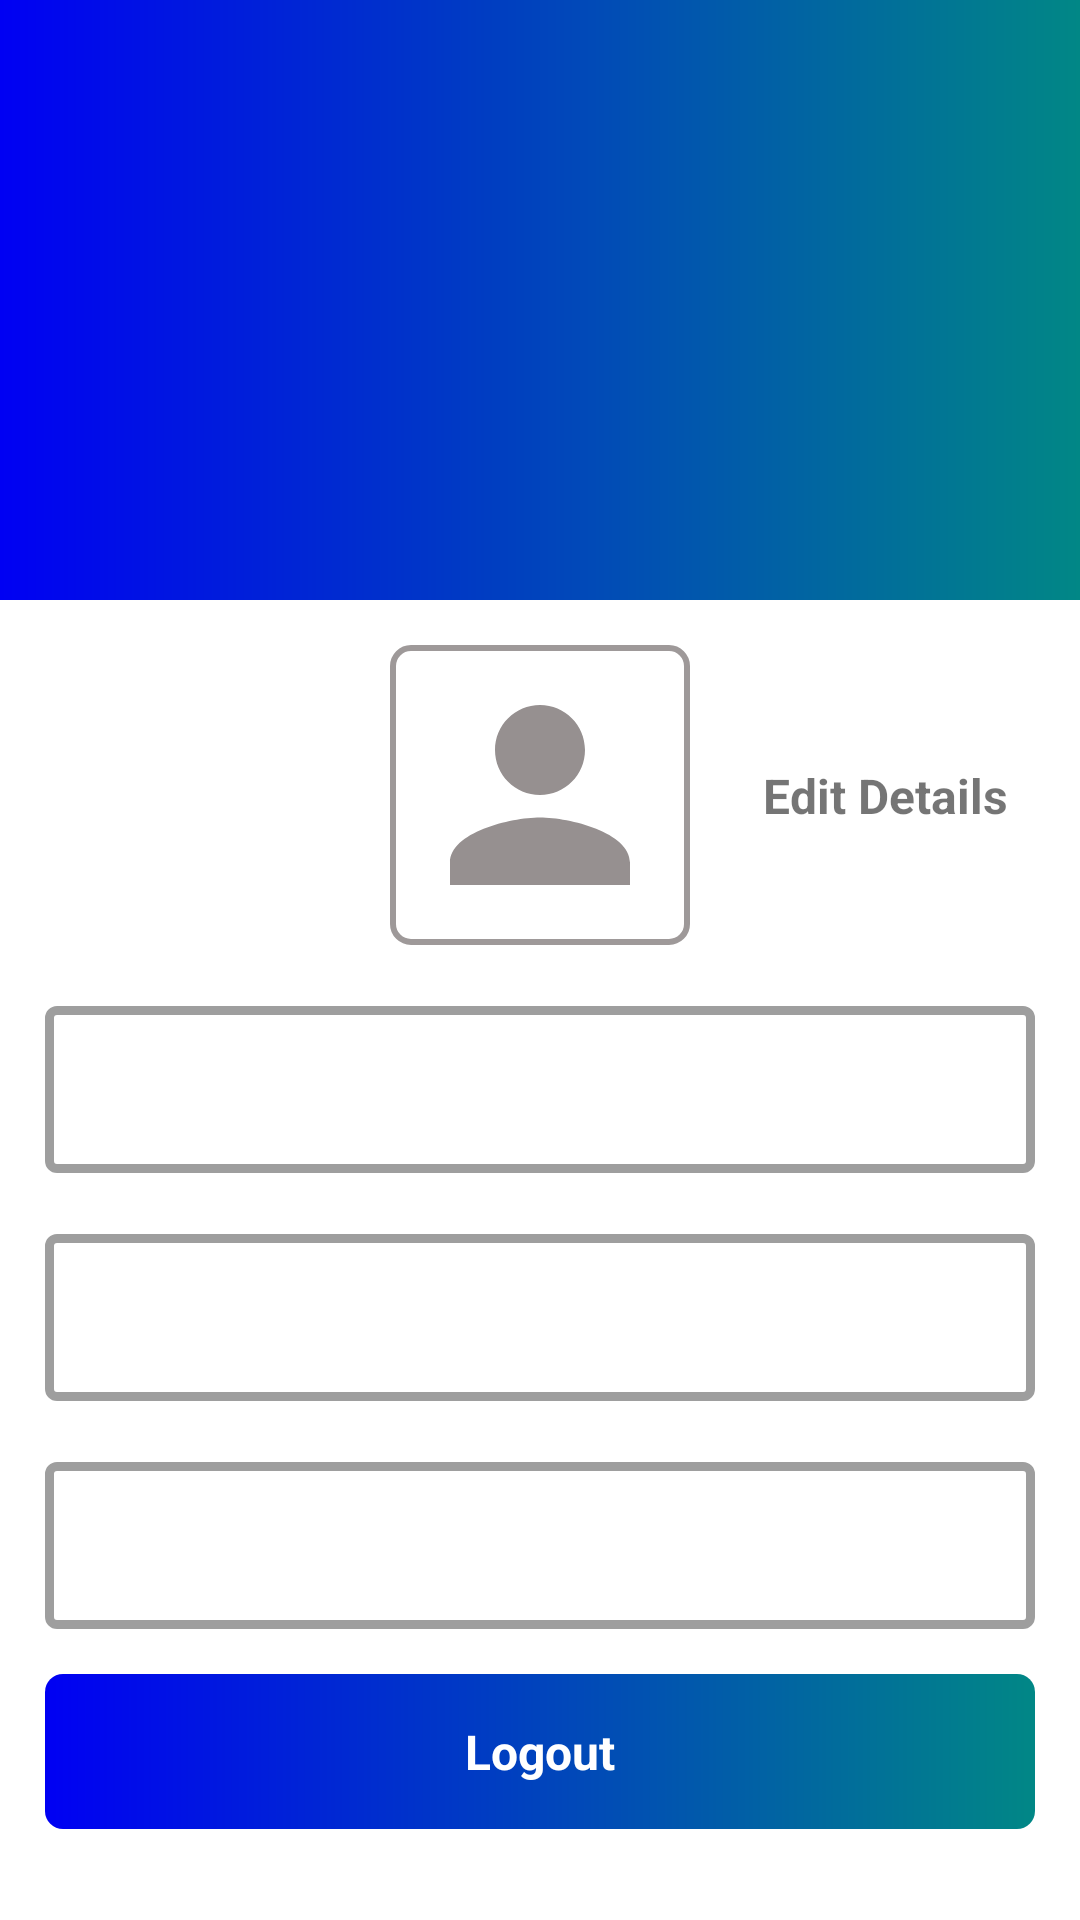

Locate icon controls on the screen. Image size 1080*1920, boxes as {"left": x1, "top": y1, "right": x2, "bottom": y2}.
User Profile Image: {"left": 450, "top": 705, "right": 630, "bottom": 885}
